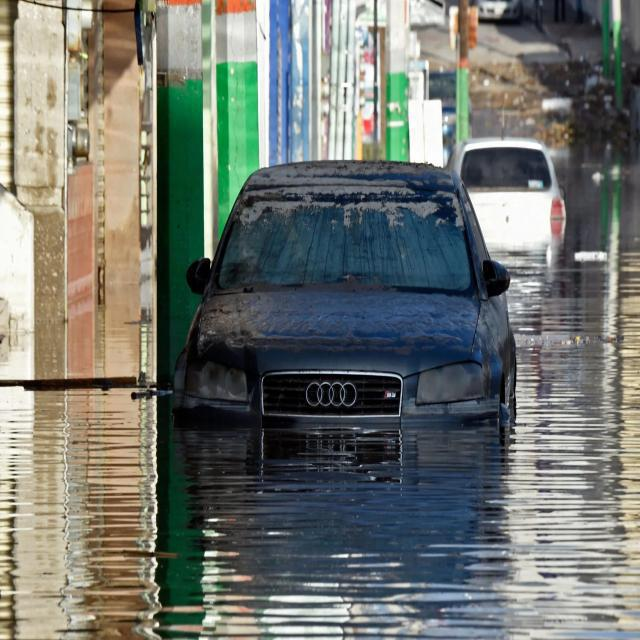water: (3, 162, 638, 637), (3, 285, 150, 381)
